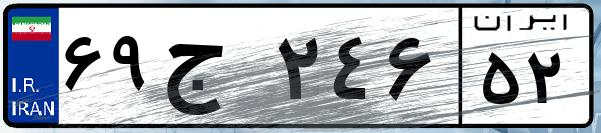2: (270, 28, 330, 110), (525, 38, 570, 115)
4: (330, 28, 385, 110)
5: (475, 38, 525, 113)
6: (385, 28, 445, 110), (57, 26, 110, 100)
9: (110, 28, 158, 98)
ج: (158, 20, 270, 120)
